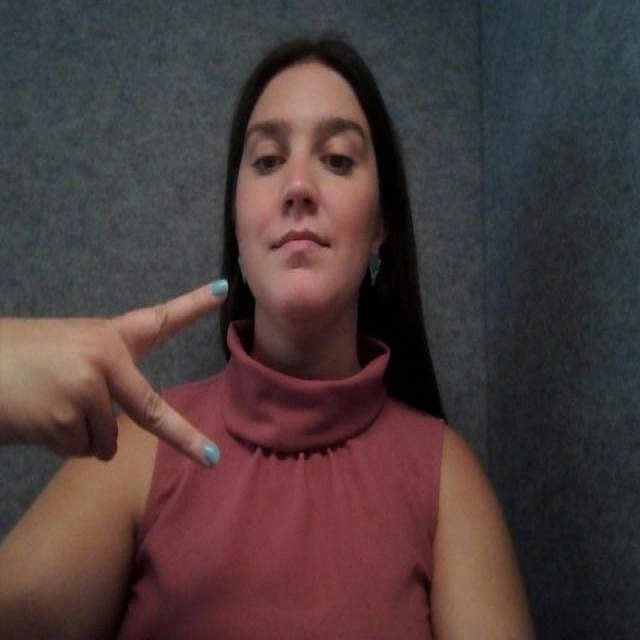Scissors: (0, 252, 280, 543)
